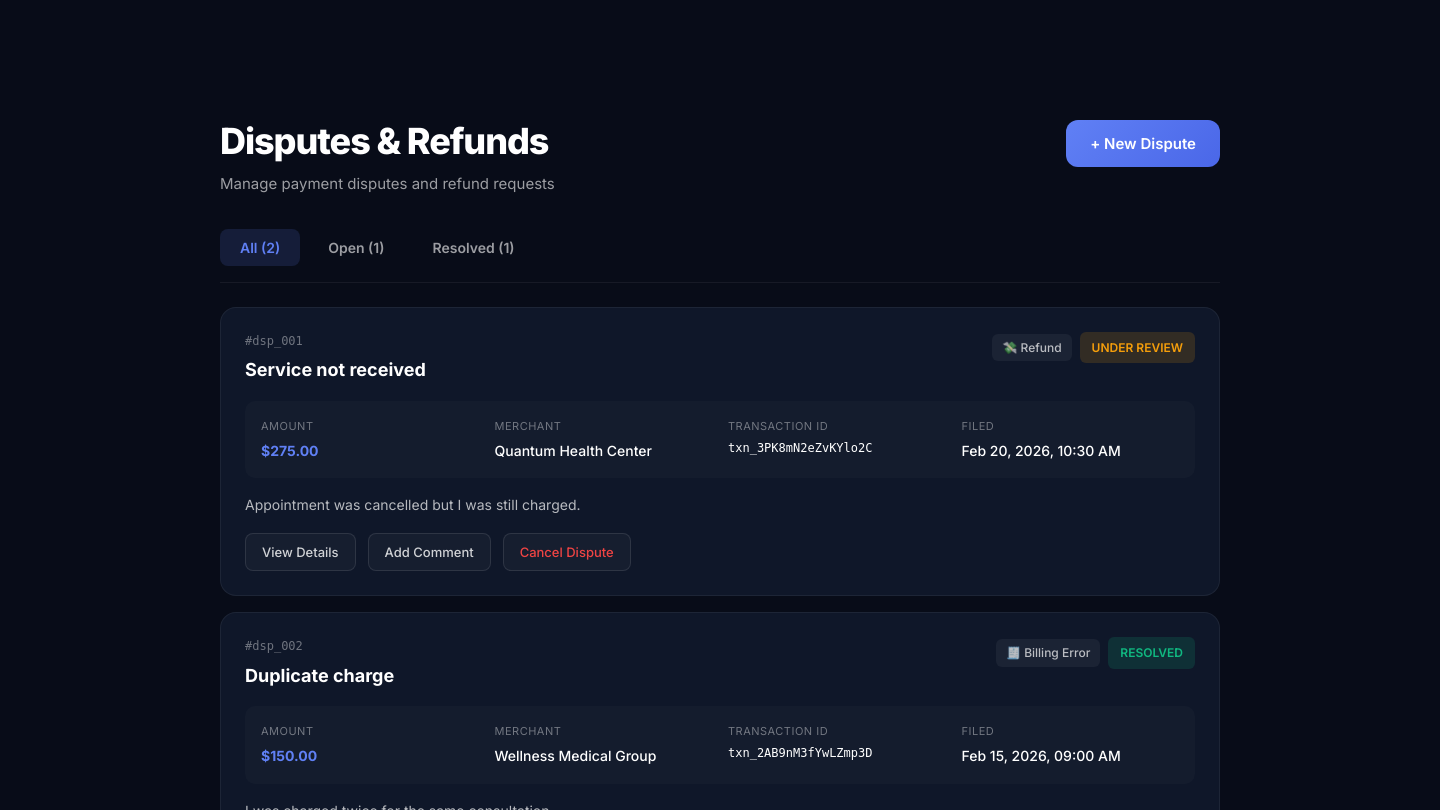
Test: Disputes › new dispute modal › closes modal when overlay is clicked
The width and height of the screenshot is (1440, 810).
Click the button "+ New Dispute": coordinates (1143, 144) [1066,120,1220,167]
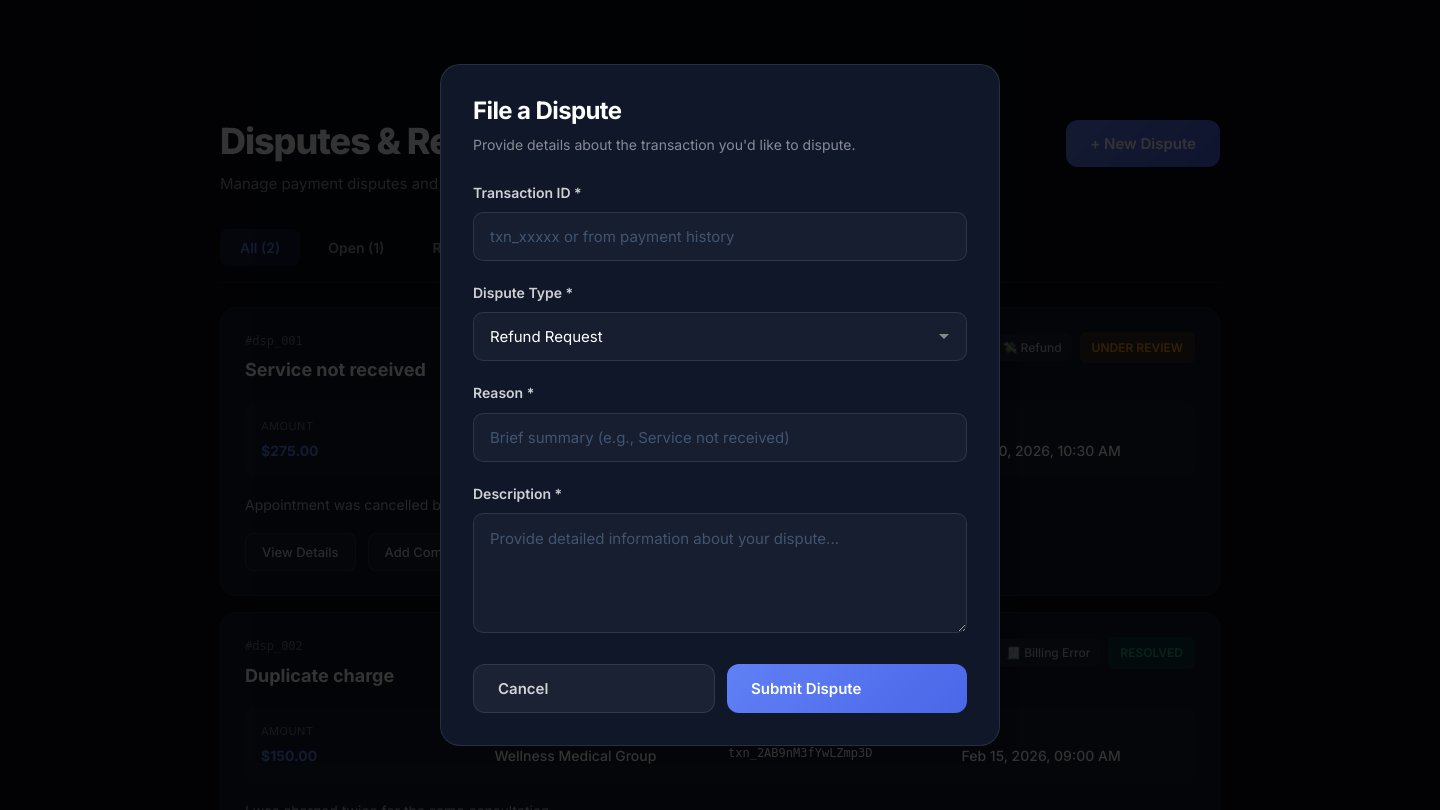
Expected: the heading "File a Dispute" is shown, [473,96,622,125]
# Click overlay (the parent container that has onClick to close)
Click the text "File a Dispute": coordinates (86, 405) [0,0,1439,809]
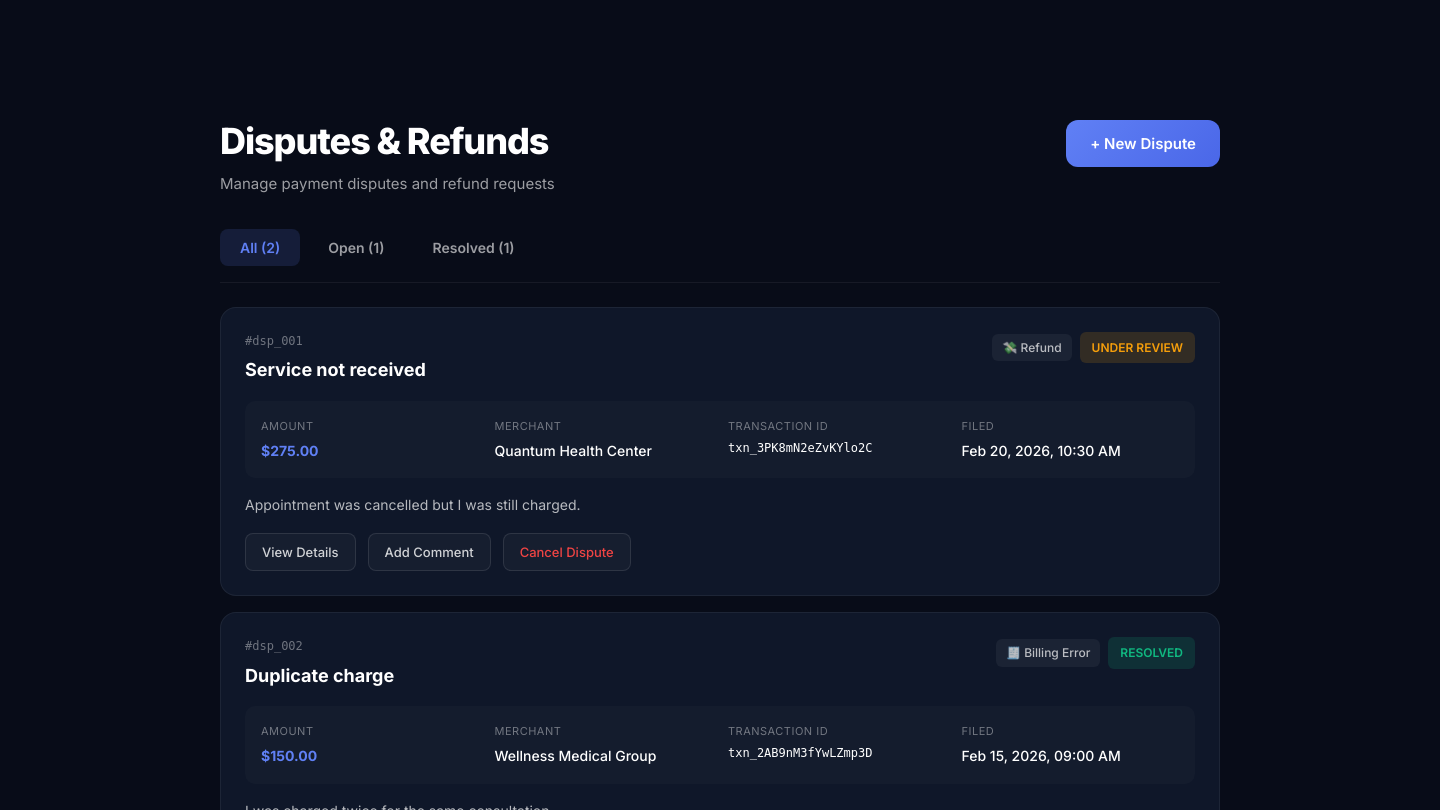
Expected: the heading "File a Dispute" is gone
